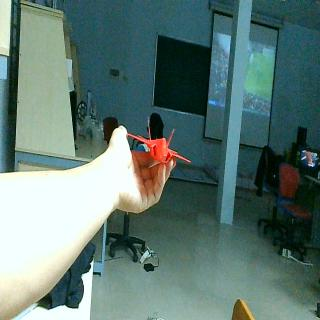Jet: (126, 119, 192, 165)
